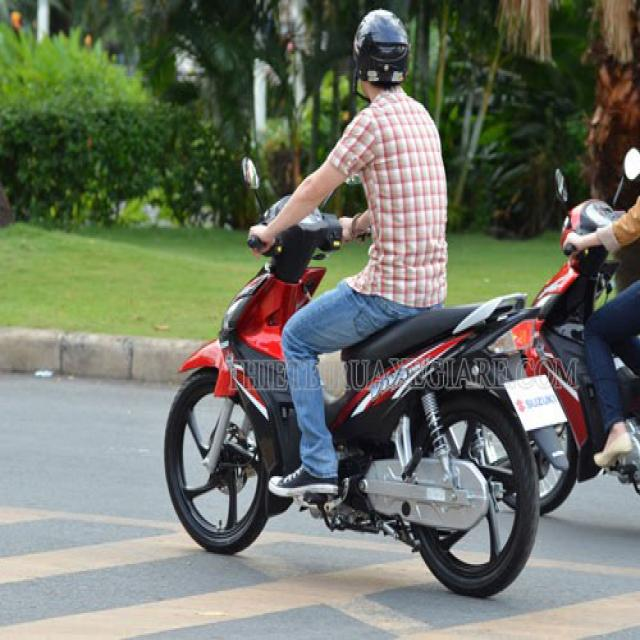helmet: (349, 5, 412, 86)
